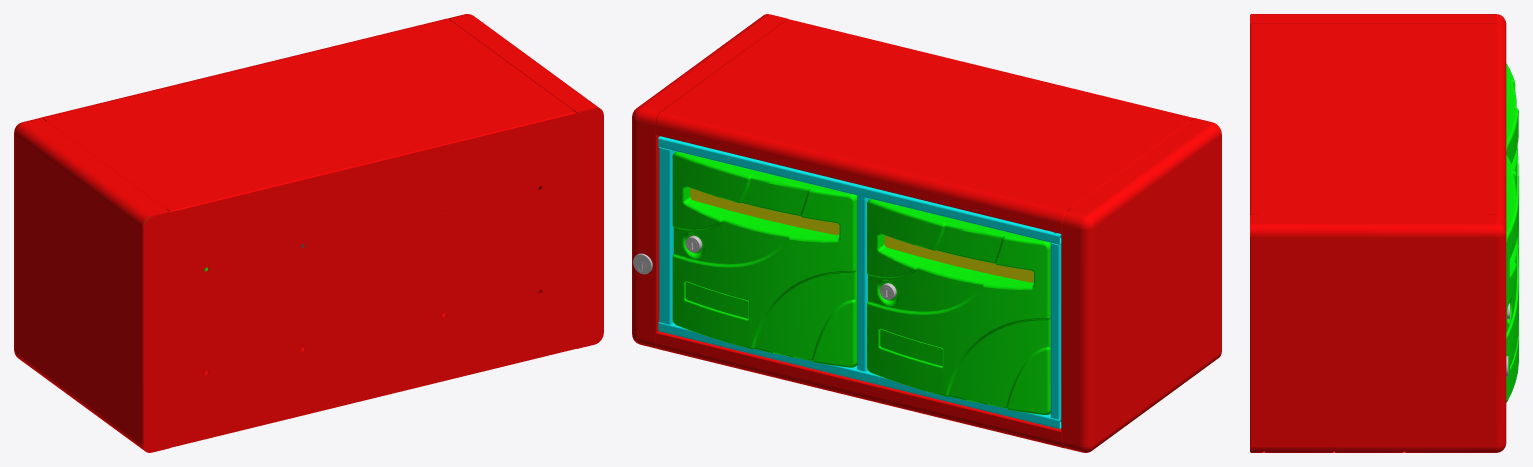
Rendered from elite_B2.glb.
The picture shows the model from 3 angles, left to right: view 1: azimuth 30°, elevation 25°; view 2: azimuth 150°, elevation 25°; view 3: azimuth 270°, elevation 25°; orthographic projection. The views are drawn at different scales.
Visible parts, largest first — view 1: empty_6, empty_5, empty_2, empty_3; view 2: empty_5, empty_2, empty_31, empty_25, empty_3, empty_7, empty_16, empty_15, empty_19, empty_18, empty_22, empty_26 (+3 smaller); view 3: empty_3, empty_5, empty_31, empty_2, empty_25, empty_6.
Boxes of the visible parts, x1,y1,x2,y2 form: empty_6: (143, 108, 603, 452); empty_5: (40, 18, 575, 211); empty_2: (14, 118, 169, 452); empty_3: (442, 14, 603, 348); empty_5: (655, 19, 1193, 233); empty_2: (1061, 118, 1221, 452); empty_31: (672, 151, 857, 367); empty_25: (867, 199, 1050, 414); empty_3: (632, 14, 787, 348); empty_7: (655, 331, 1064, 448); empty_16: (659, 136, 1061, 244); empty_15: (659, 322, 1061, 428); empty_19: (658, 136, 675, 331); empty_18: (1050, 243, 1061, 419); empty_22: (857, 195, 870, 371); empty_26: (884, 235, 1033, 282); empty_3: (1250, 215, 1506, 452); empty_5: (1250, 23, 1506, 222); empty_31: (1506, 155, 1518, 402); empty_2: (1250, 14, 1506, 30); empty_25: (1506, 63, 1518, 266); empty_6: (1250, 15, 1250, 451).
Size of the model in its own units: 732 by 359 by 383.
